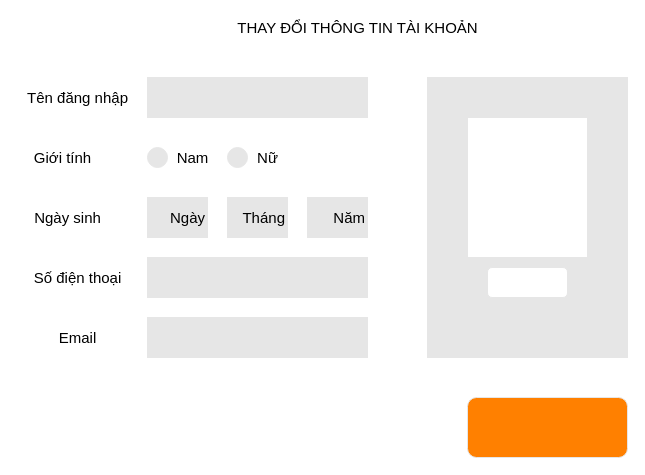
Image size: 645x475. Some labels were removed from this diagram. Here are the shapes that lost their labels. From the top down, the centre of each, then its label:
At (x=527, y=282): "Chọn ảnh".
At (x=547, y=427): "LƯU THAY ĐỔI".
